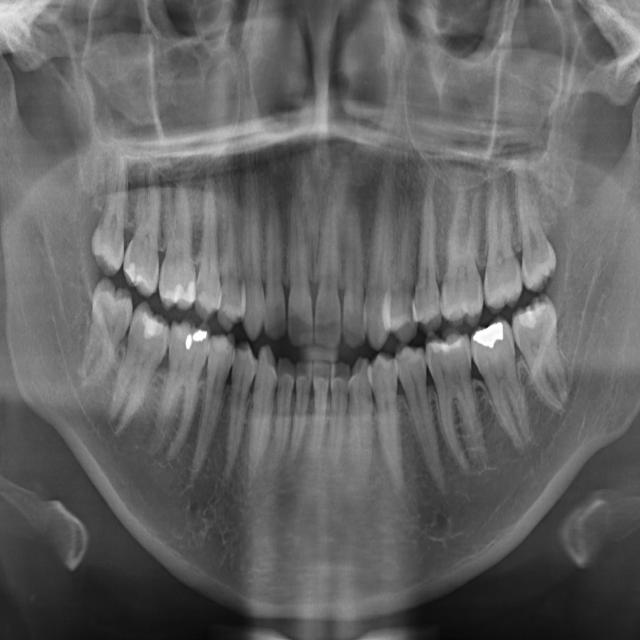AmalgamRestoration: (470, 322, 507, 353), (182, 327, 209, 349)
CompositeResinRestoration: (165, 278, 196, 315), (516, 300, 547, 335), (429, 331, 461, 363), (137, 312, 164, 345), (119, 254, 141, 281)
DentalCaries: (195, 272, 208, 306), (401, 290, 415, 320), (221, 281, 230, 314), (412, 292, 424, 316), (431, 292, 442, 316)
